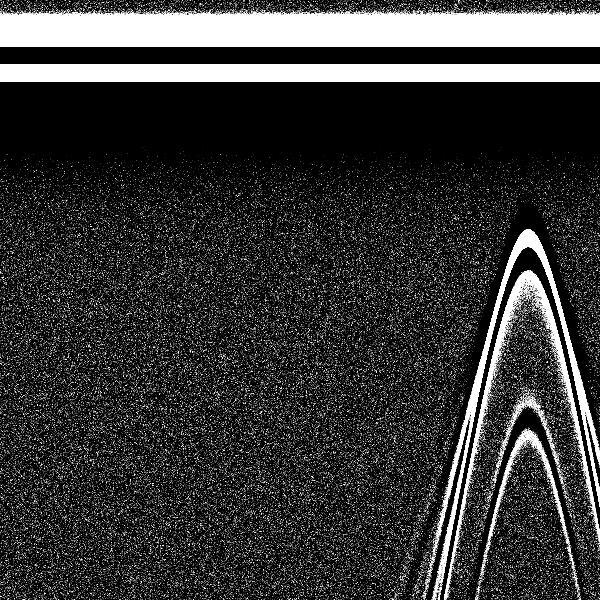pipe: (477, 6, 573, 319)
